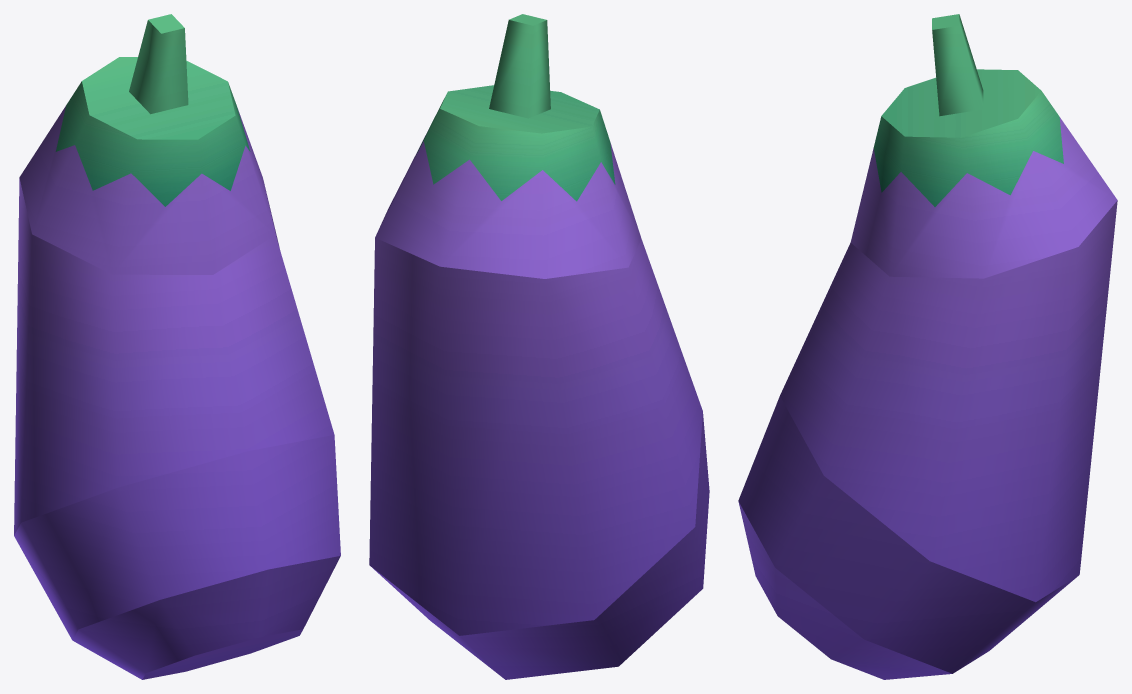
The model's file is eggplant.glb.
3 renders of one model, left to right at view 1: azimuth 30°, elevation 25°; view 2: azimuth 150°, elevation 25°; view 3: azimuth 270°, elevation 25°, orthographic. The views are drawn at different scales.
Parts seen in each view (by area): view 1: eggplant; view 2: eggplant; view 3: eggplant.
Boxes of the visible parts, x1,y1,x2,y2 form: eggplant: [14, 14, 340, 679]; eggplant: [369, 14, 709, 679]; eggplant: [738, 14, 1117, 679].
Bounding box in the file's own units: 0.2041 × 0.4052 × 0.2155.
1 material, 1 textured.
